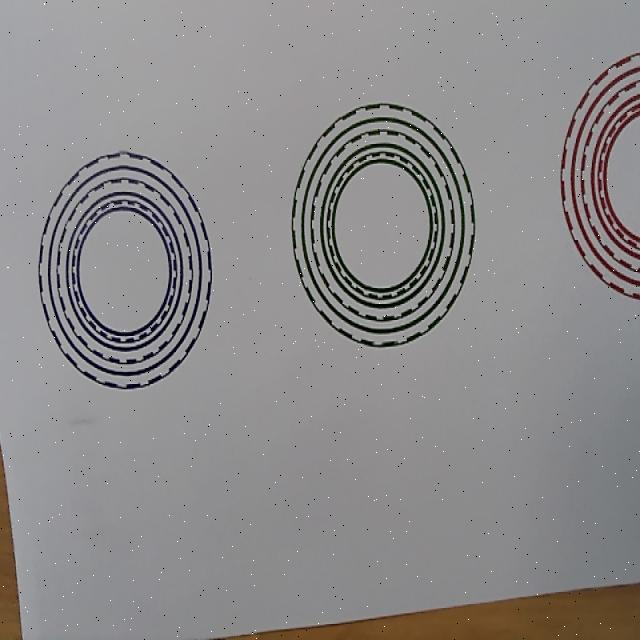b: (38, 150, 212, 390)
g: (290, 102, 476, 350)
